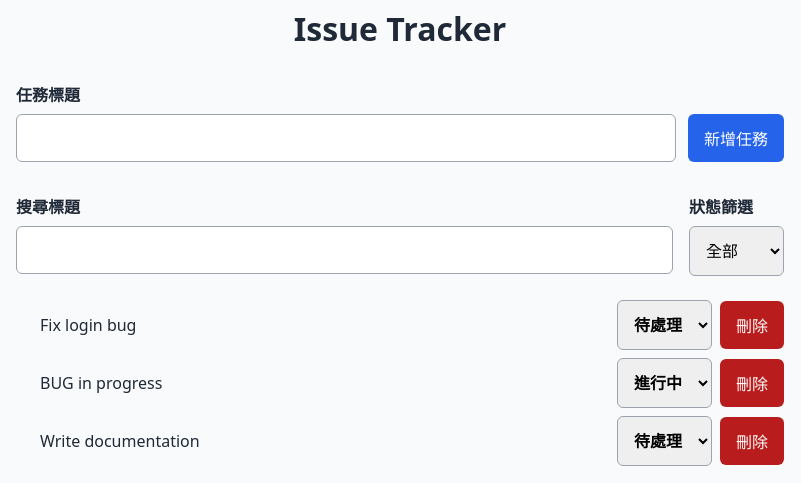
it: App › 以不分英文大小寫的標題關鍵字搜尋，清除後恢復目前狀態結果
Select "待處理" in the dropdown labelled "狀態篩選": coordinates (736, 251) [689, 226, 784, 276]
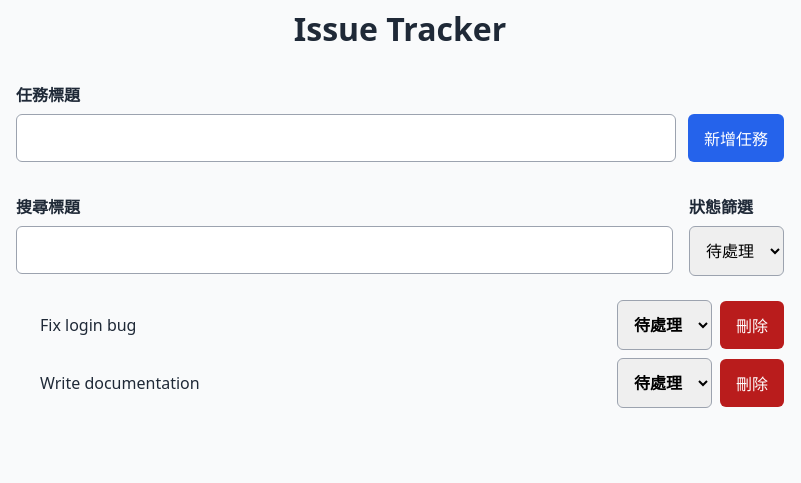
In the search field labelled "搜尋標題": coordinates (344, 250) [16, 226, 673, 274], type "BUG"
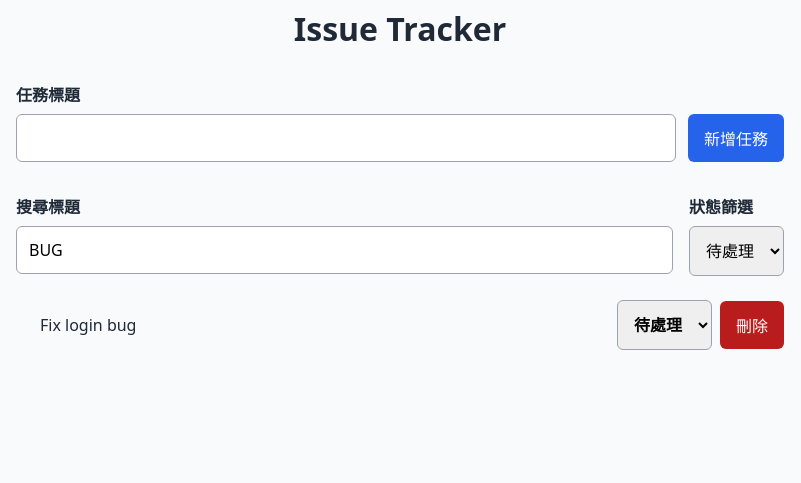
Expected: the text "Fix login bug" is shown, [40, 314, 136, 336]
Now the text "Write documentation" is gone
Clear the search field labelled "搜尋標題": coordinates (344, 250) [16, 226, 673, 274]
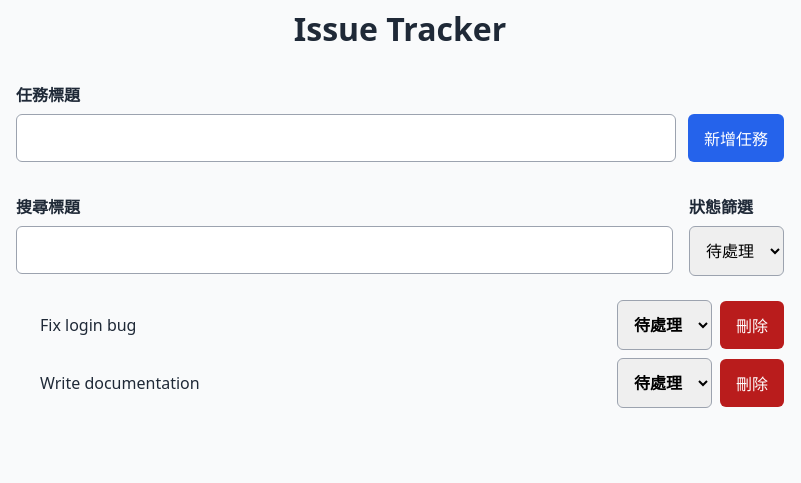
Expected: the text "Fix login bug" is shown, [40, 314, 136, 336]
Now the text "Write documentation" is shown, box [40, 372, 200, 394]
